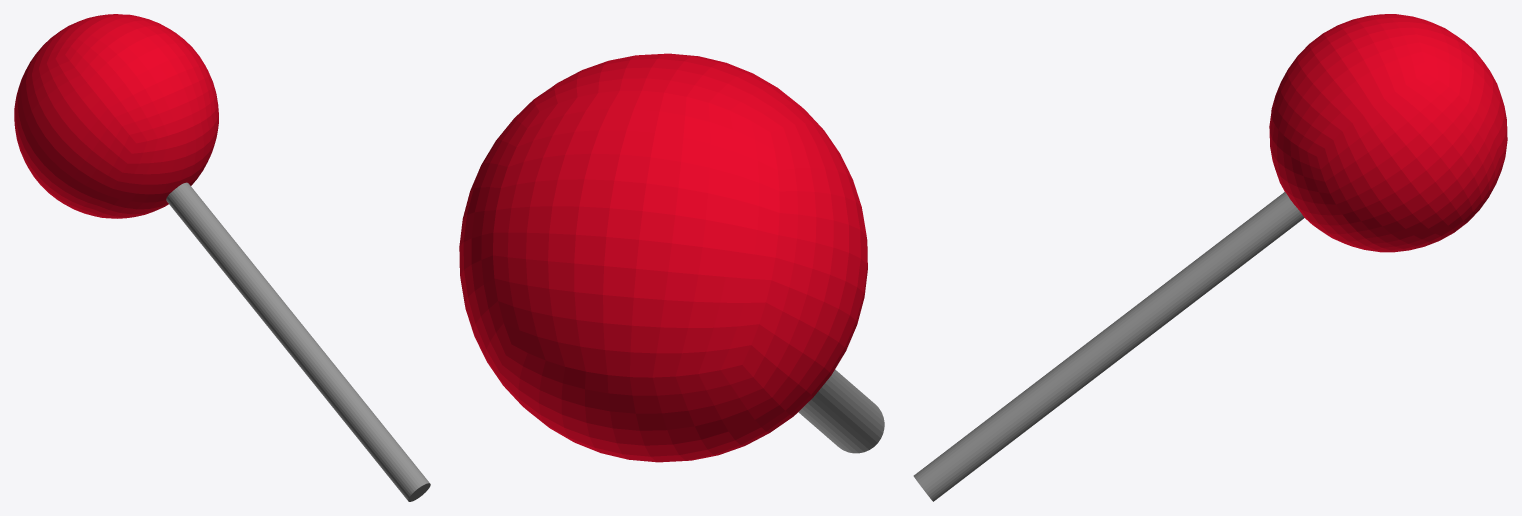
File: stecknadel deutschland.glb
The picture shows the model from 3 angles, left to right: view 1: azimuth 30°, elevation 25°; view 2: azimuth 150°, elevation 25°; view 3: azimuth 270°, elevation 25°; orthographic projection. The views are drawn at different scales.
Visible parts, largest first — view 1: Zylinder; view 2: Zylinder; view 3: Zylinder.
Boxes of the visible parts, x1,y1,x2,y2 form: Zylinder: [14, 14, 430, 501]; Zylinder: [459, 53, 884, 462]; Zylinder: [913, 14, 1507, 501].
Bounding box in the file's own units: 0.1044 × 0.1754 × 0.2265.
